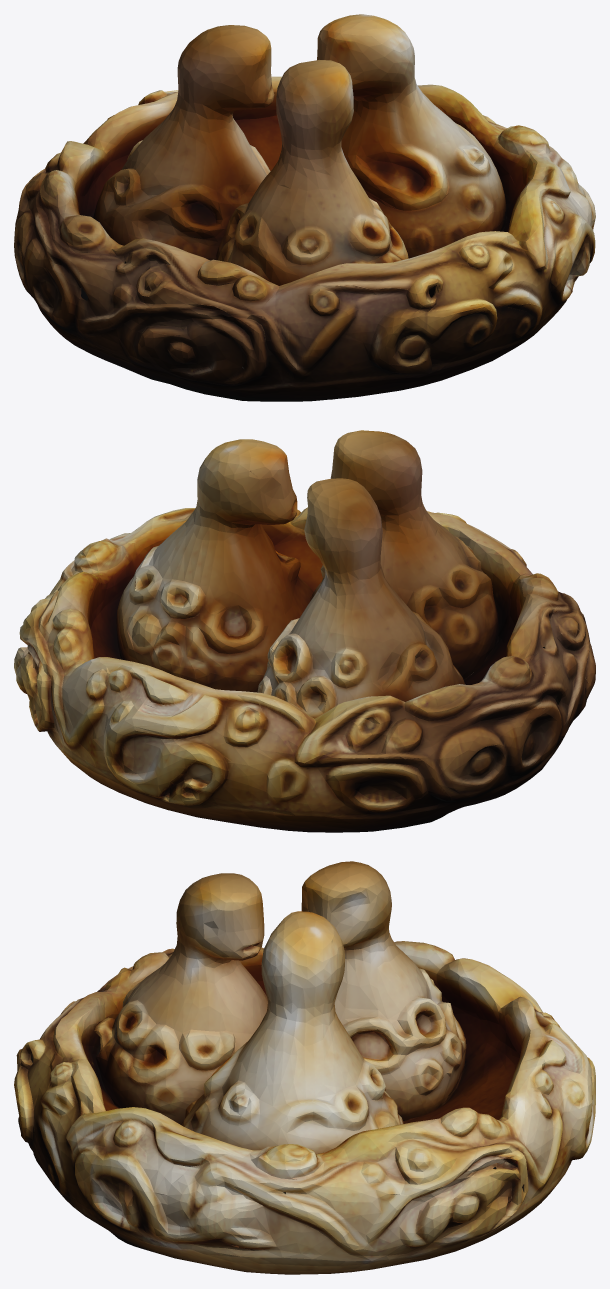
File: ceramic-wedding-souvenir-rustic.jpeg.glb
3 renders of one model, top to bottom at view 1: azimuth 30°, elevation 25°; view 2: azimuth 150°, elevation 25°; view 3: azimuth 270°, elevation 25°, orthographic. The views are drawn at different scales.
Parts seen in each view (by area): view 1: world; view 2: world; view 3: world.
Part boxes in pixels (x1,y1,x2,y2): world: [14, 14, 595, 401]; world: [14, 430, 595, 832]; world: [14, 861, 595, 1274].
Size of the model in its own units: 0.9989 by 0.5462 by 0.9983.
1 material, 1 textured.
